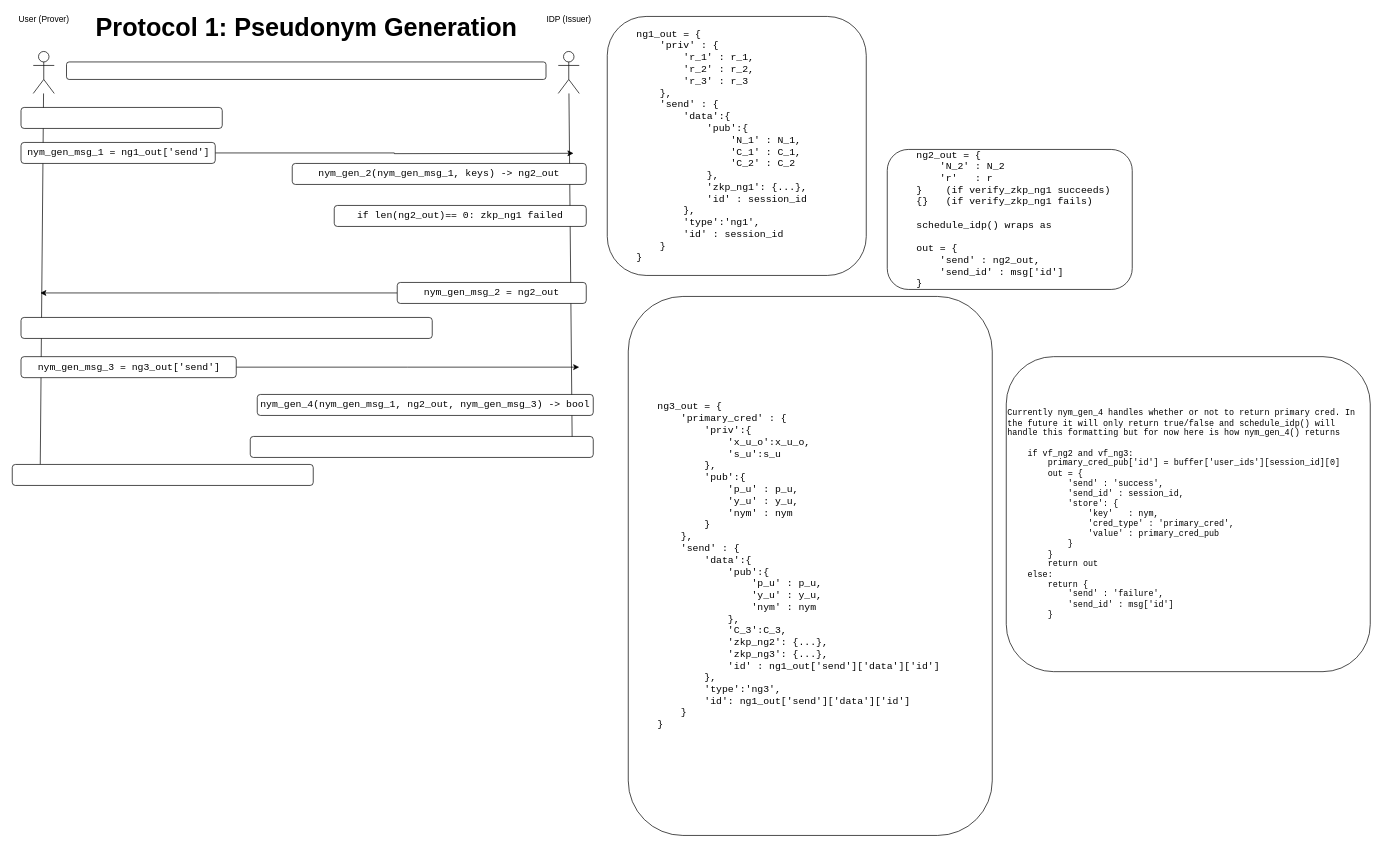
The diagram is 1383 pixels wide and 848 high, and some of its shapes have lost their labels. The centre of each missing label's shape, as x and y in pixels:
"nym_gen_1(keys) -> ng1_out" belongs at (x=121, y=117).
"nym_gen_3(ng1_out, nym_gen_msg_2, keys) -> ng3_out" belongs at (x=226, y=327).
"store nym_gen_msg_3['pub'] as primary credential (if True)" belongs at (x=421, y=446).
"store primary_cred = ng3_out['primary_cred']" belongs at (x=162, y=474).
"User and IDP establish a secure connection. User sends proof of identity id_u." belongs at (x=306, y=70).
